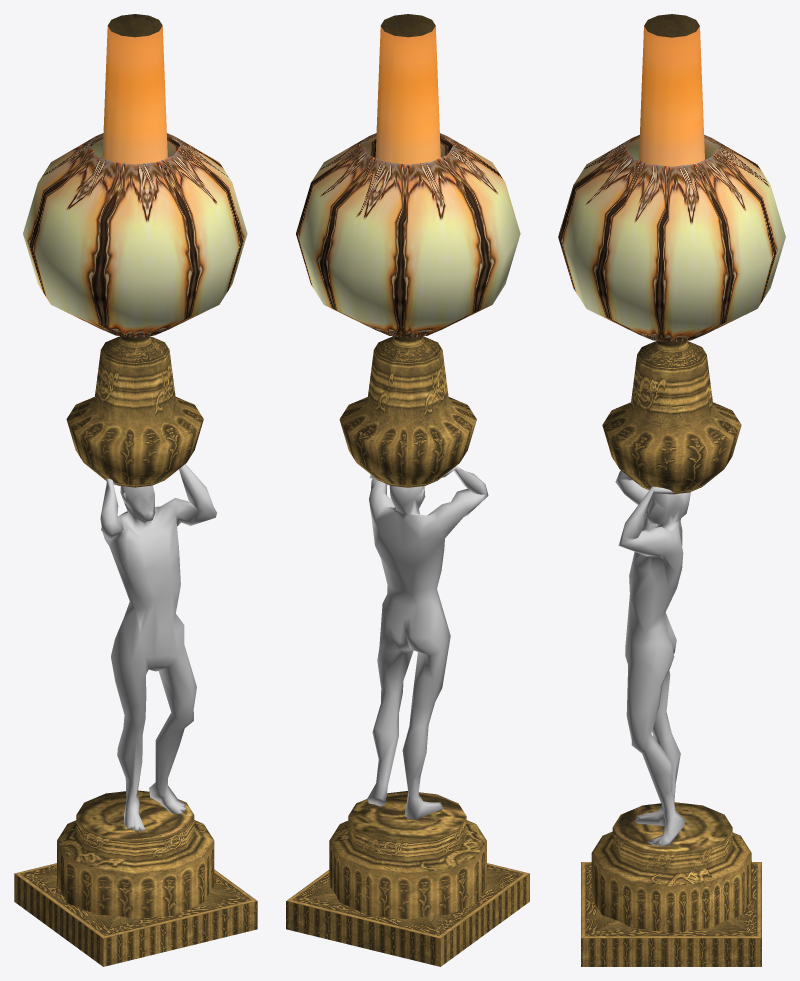
Rendered from Lamp_Statue_R.fbx.
3 renders of one model, left to right at view 1: azimuth 30°, elevation 25°; view 2: azimuth 150°, elevation 25°; view 3: azimuth 270°, elevation 25°, orthographic.
Parts seen in each view (by area): view 1: Lamp_Statue_LOD0; view 2: Lamp_Statue_LOD0; view 3: Lamp_Statue_LOD0.
Part boxes in pixels (box(x1,y1,x2,y2)): Lamp_Statue_LOD0: box(14, 14, 257, 966); Lamp_Statue_LOD0: box(286, 14, 529, 966); Lamp_Statue_LOD0: box(558, 14, 785, 966).
Size of what is drawn, in the model's own units: 82.17 by 359 by 82.17.
